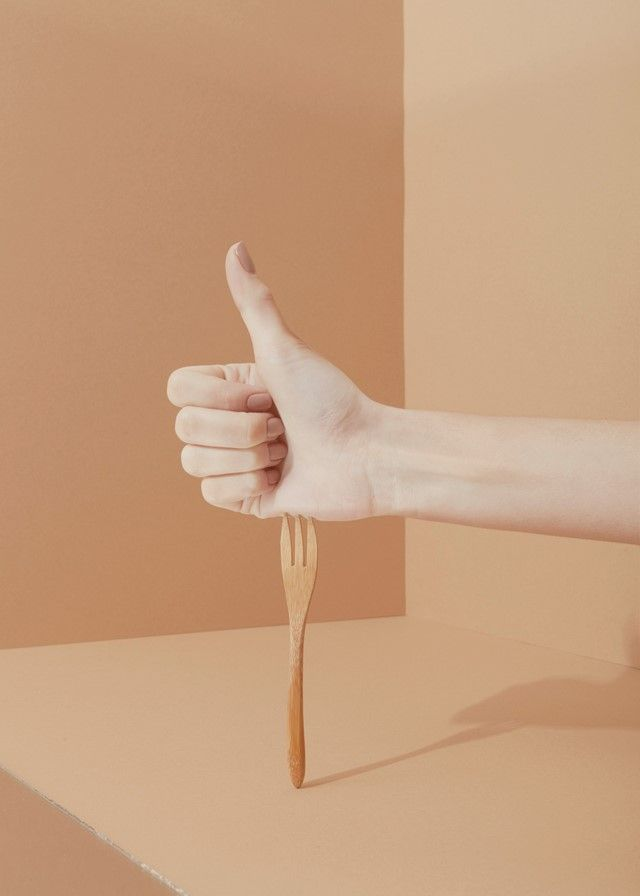thumbsup: (165, 237, 299, 522)
